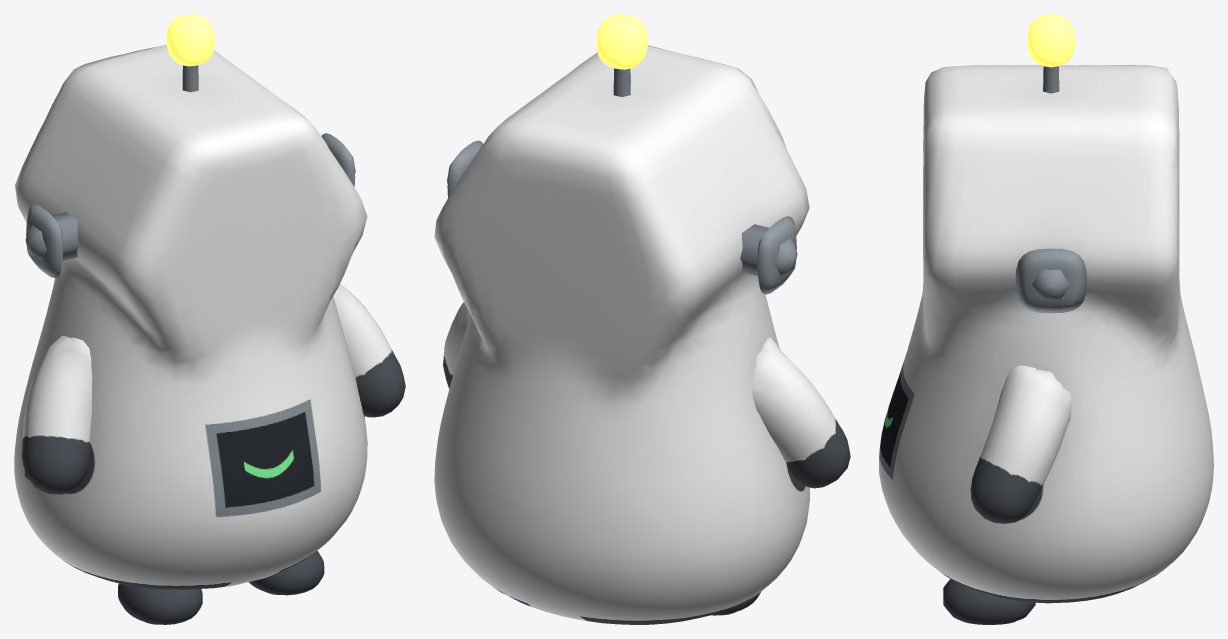
Rendered from ferreteria.glb.
3 views of the same model, side by side, from view 1: azimuth 30°, elevation 25°; view 2: azimuth 150°, elevation 25°; view 3: azimuth 270°, elevation 25° (orthographic). The views are drawn at different scales.
Parts seen in each view (by area): view 1: cuerpo, brazoI, brazoD, cabeza, copete; view 2: cuerpo, brazoI, cabeza, copete, brazoD; view 3: cuerpo, brazoD, cabeza, copete.
Boxes of the visible parts, <box> form: cuerpo: <box>14,45,367,624</box>; brazoI: <box>22,335,92,494</box>; brazoD: <box>333,284,405,417</box>; cabeza: <box>25,133,355,278</box>; copete: <box>166,14,214,92</box>; cuerpo: <box>434,45,809,624</box>; brazoI: <box>751,337,850,488</box>; cabeza: <box>447,140,797,294</box>; copete: <box>596,14,647,97</box>; brazoD: <box>443,302,470,388</box>; cuerpo: <box>879,65,1213,624</box>; brazoD: <box>970,365,1071,523</box>; cabeza: <box>1015,248,1086,313</box>; copete: <box>1027,14,1074,93</box>.
Bounding box in the file's own units: 1.85 × 2.64 × 1.41.
3 materials, 3 textured.
